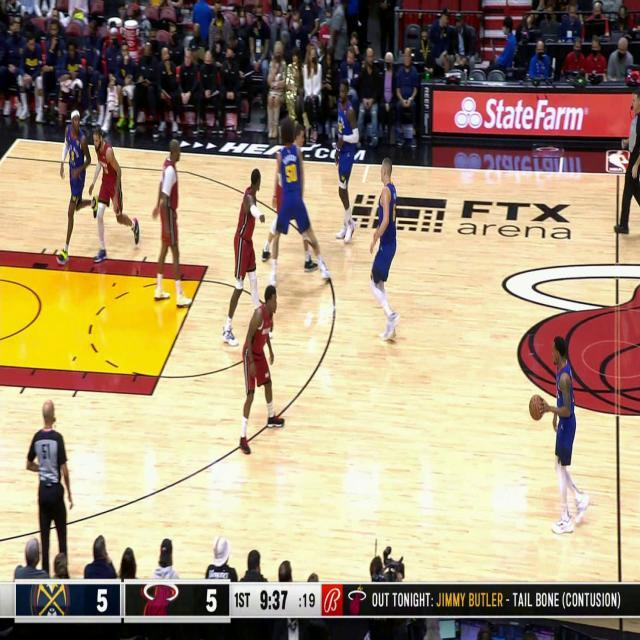rim: (529, 394, 545, 420)
